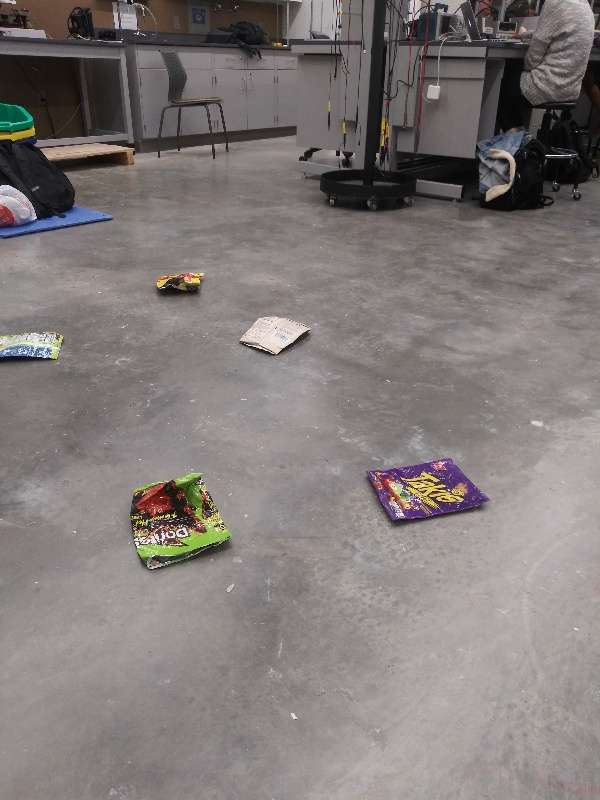bag: (127, 468, 238, 572), (356, 454, 494, 527), (235, 313, 315, 360), (1, 325, 69, 364), (146, 266, 212, 297)
